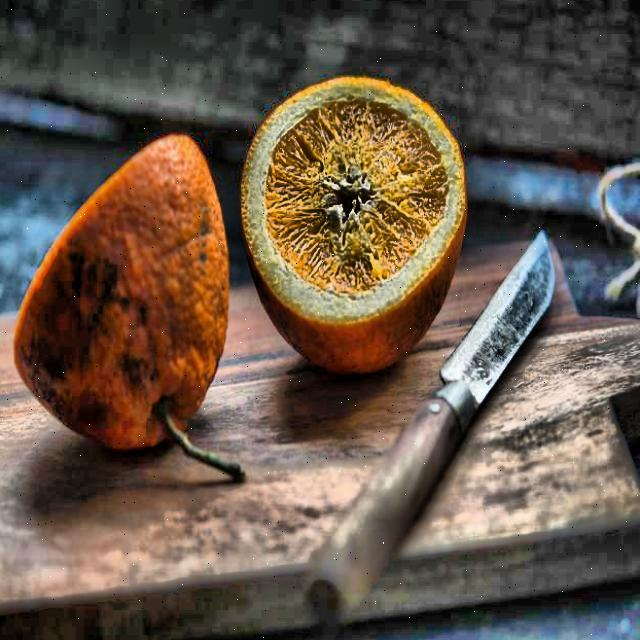knife: (306, 224, 560, 621)
